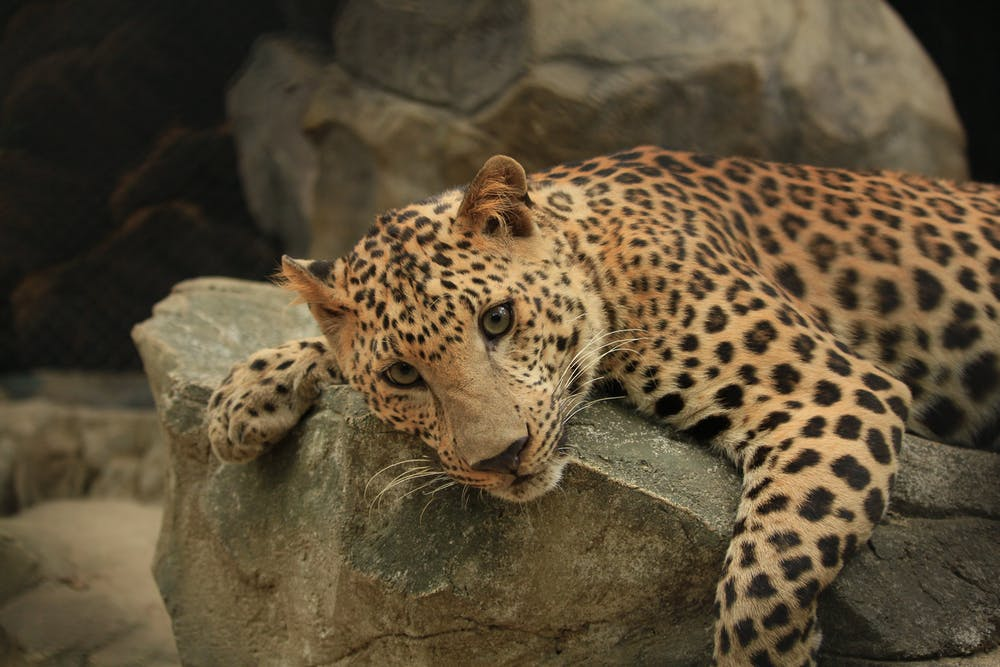cheetah: (267, 150, 635, 521)
